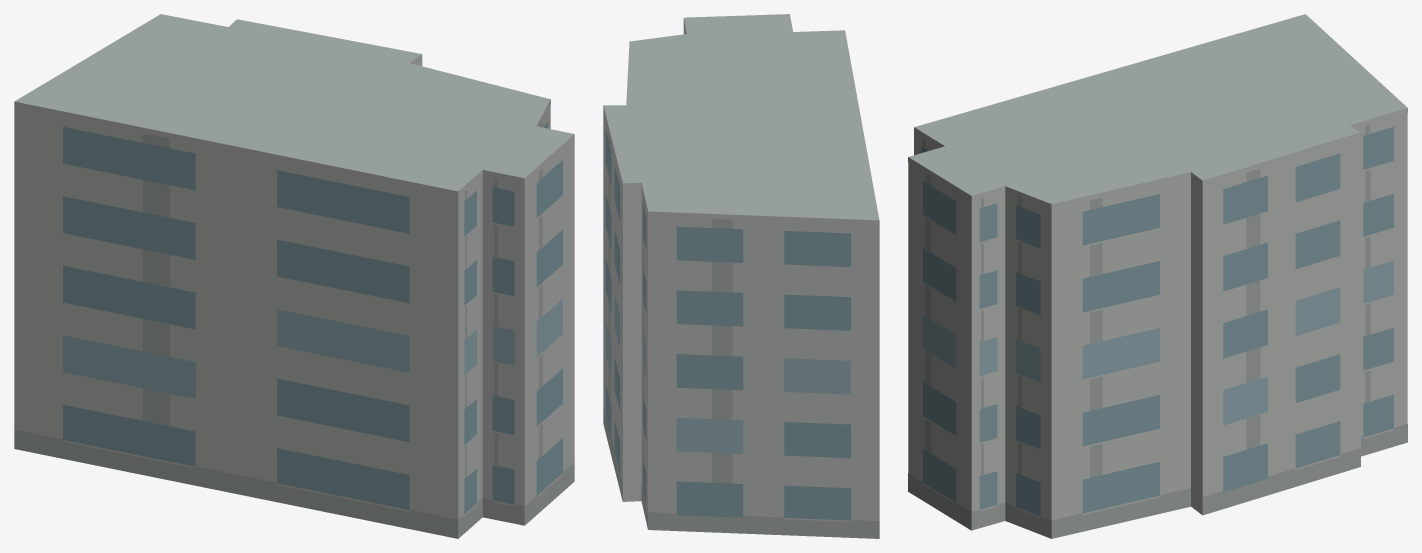
File: residential-452c026a-a002-4594-9bfc-bcf5a70cfccd.glb
The picture shows the model from 3 angles, left to right: view 1: azimuth 30°, elevation 25°; view 2: azimuth 150°, elevation 25°; view 3: azimuth 270°, elevation 25°; orthographic projection. The views are drawn at different scales.
Parts seen in each view (by area): view 1: residential-452c026a-a002-4594-9bfc-bcf5a70cfccd.tmp; view 2: residential-452c026a-a002-4594-9bfc-bcf5a70cfccd.tmp; view 3: residential-452c026a-a002-4594-9bfc-bcf5a70cfccd.tmp.
Part boxes in pixels (x1=…): residential-452c026a-a002-4594-9bfc-bcf5a70cfccd.tmp: x1=14, y1=14, x2=574, y2=538; residential-452c026a-a002-4594-9bfc-bcf5a70cfccd.tmp: x1=603, y1=14, x2=879, y2=538; residential-452c026a-a002-4594-9bfc-bcf5a70cfccd.tmp: x1=908, y1=14, x2=1407, y2=538.
Bounding box in the file's own units: 18.59 × 15.25 × 20.64.
